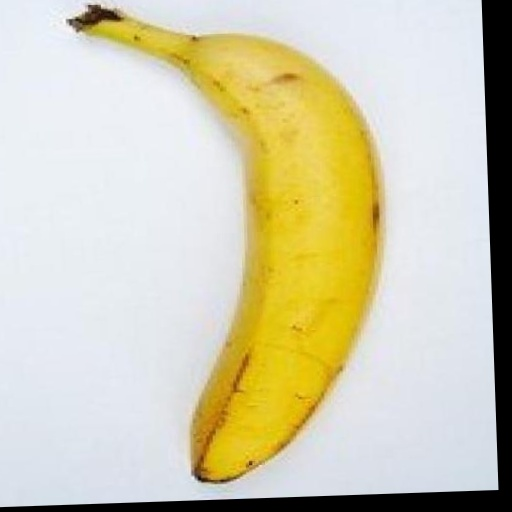fruit: (69, 6, 380, 481)
